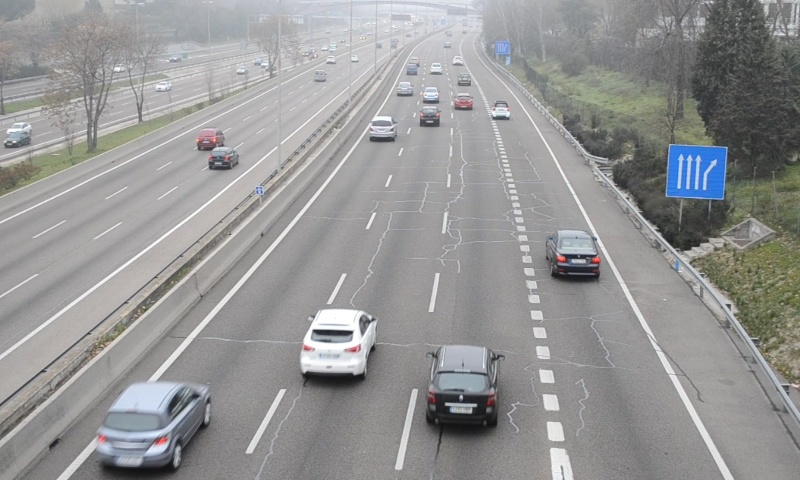car: (95, 382, 210, 467), (424, 344, 500, 427), (300, 308, 377, 378), (546, 229, 602, 281), (368, 116, 397, 142), (419, 106, 440, 128), (491, 100, 511, 120), (422, 86, 440, 104), (454, 93, 473, 110), (396, 81, 414, 98)
